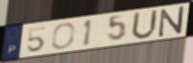1: (82, 18, 93, 48)
5: (107, 13, 129, 44), (25, 25, 48, 53)
N: (158, 5, 186, 39)
O: (50, 21, 77, 50)
U: (130, 9, 160, 42)
